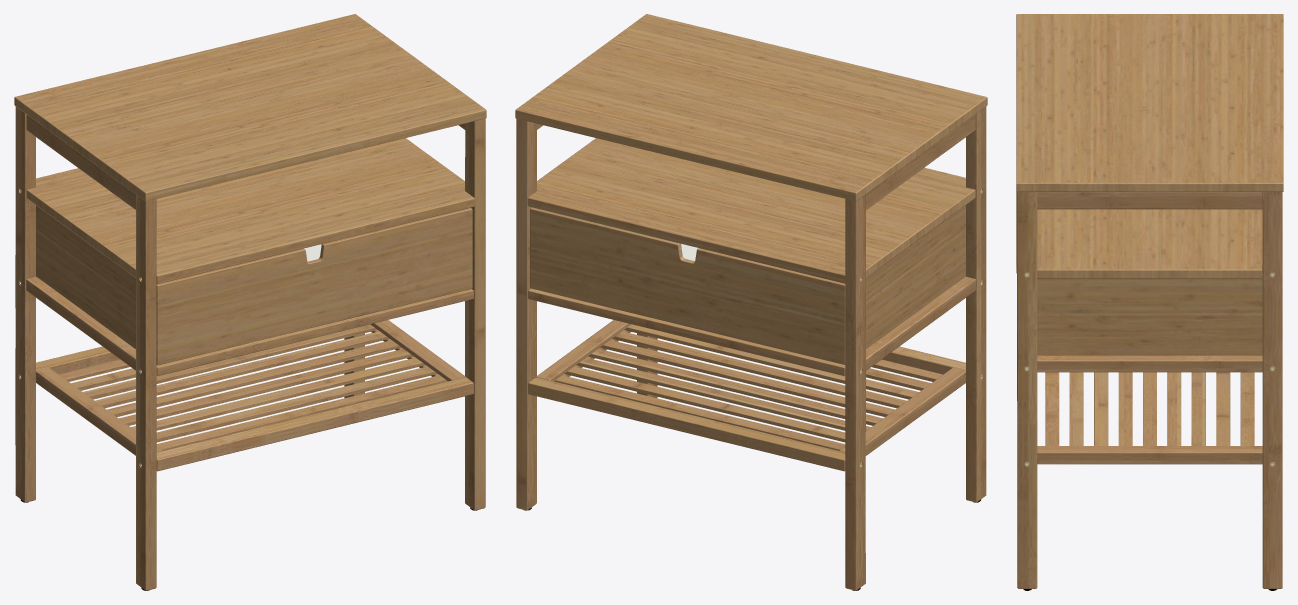
File: NORDKISA nightstand.glb
The picture shows the model from 3 angles, left to right: view 1: azimuth 30°, elevation 25°; view 2: azimuth 150°, elevation 25°; view 3: azimuth 270°, elevation 25°; orthographic projection.
Visible parts, largest first — view 1: model; view 2: model; view 3: model.
Part boxes in pixels (<box>): model: <box>14,14,486,590</box>; model: <box>515,14,987,590</box>; model: <box>1016,14,1283,590</box>.
Size of the model in its own units: 0.6001 by 0.675 by 0.4.
Materials: 1 (1 with a texture image).
